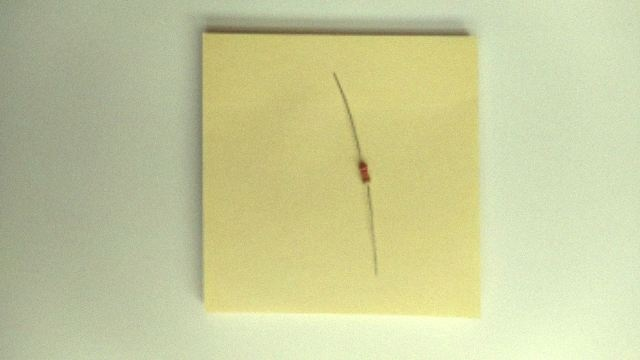resistor: (359, 160, 371, 186)
